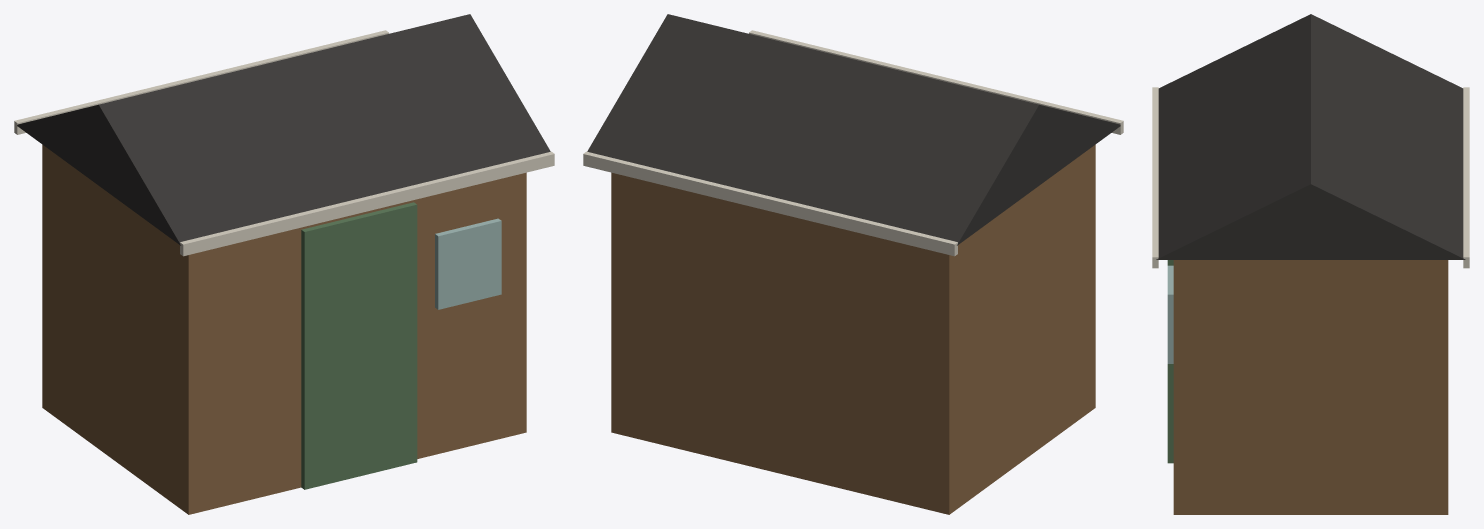
File: shed.glb
3 renders of one model, left to right at view 1: azimuth 30°, elevation 25°; view 2: azimuth 150°, elevation 25°; view 3: azimuth 270°, elevation 25°, orthographic. The views are drawn at different scales.
Visible parts, largest first — view 1: shed; view 2: shed; view 3: shed.
Part boxes in pixels (box(x1,y1,x2,y2)): shed: box(14, 14, 554, 514); shed: box(583, 14, 1123, 514); shed: box(1152, 14, 1469, 514).
Bounding box in the file's own units: 2.64 × 2.45 × 2.08.
